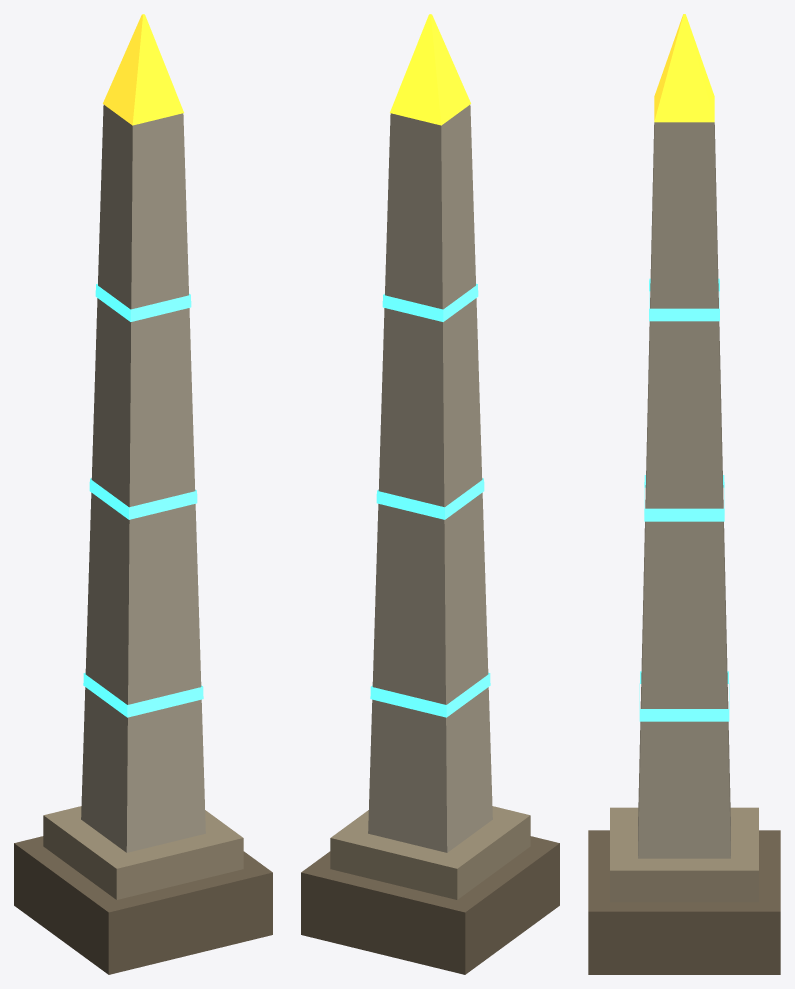
Rendered from obelisco.glb.
3 views of the same model, side by side, from view 1: azimuth 30°, elevation 25°; view 2: azimuth 150°, elevation 25°; view 3: azimuth 270°, elevation 25° (orthographic).
Parts seen in each view (by area): view 1: obelisco; view 2: obelisco; view 3: obelisco.
Part boxes in pixels (box(x1,y1,x2,y2)): obelisco: box(14, 14, 272, 974); obelisco: box(301, 14, 559, 974); obelisco: box(588, 14, 780, 974).
Bounding box in the file's own units: 22 × 116 × 22.
